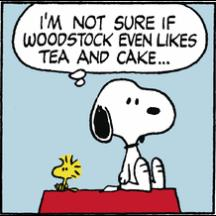snoopy: (88, 78, 176, 194)
